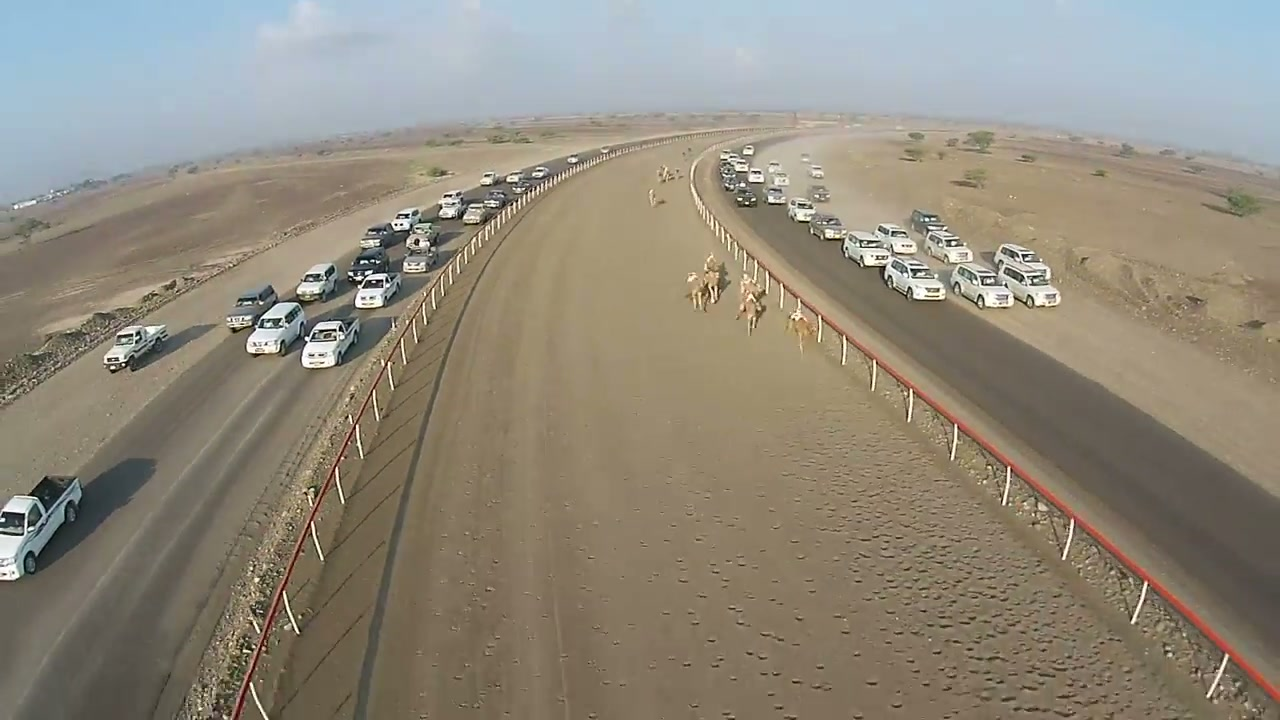animal_footprint: (819, 400, 1168, 719), (699, 506, 893, 719)
